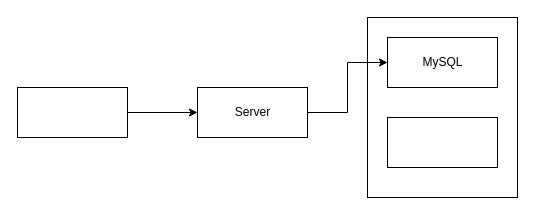
Image size: 535x215. Some labels were removed from this diagram. Here are the shapes that lost their labels. From the top down, the centre of each, then its label:
At (72,112): "Client".
At (442,142): "Docker".
